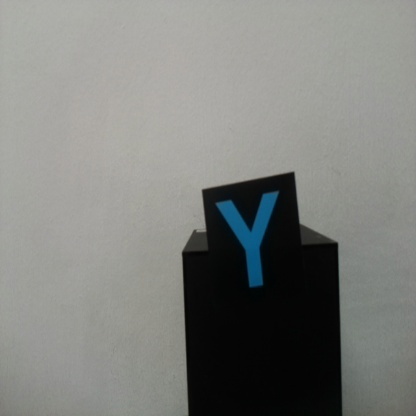id_14: (203, 190, 302, 304)
